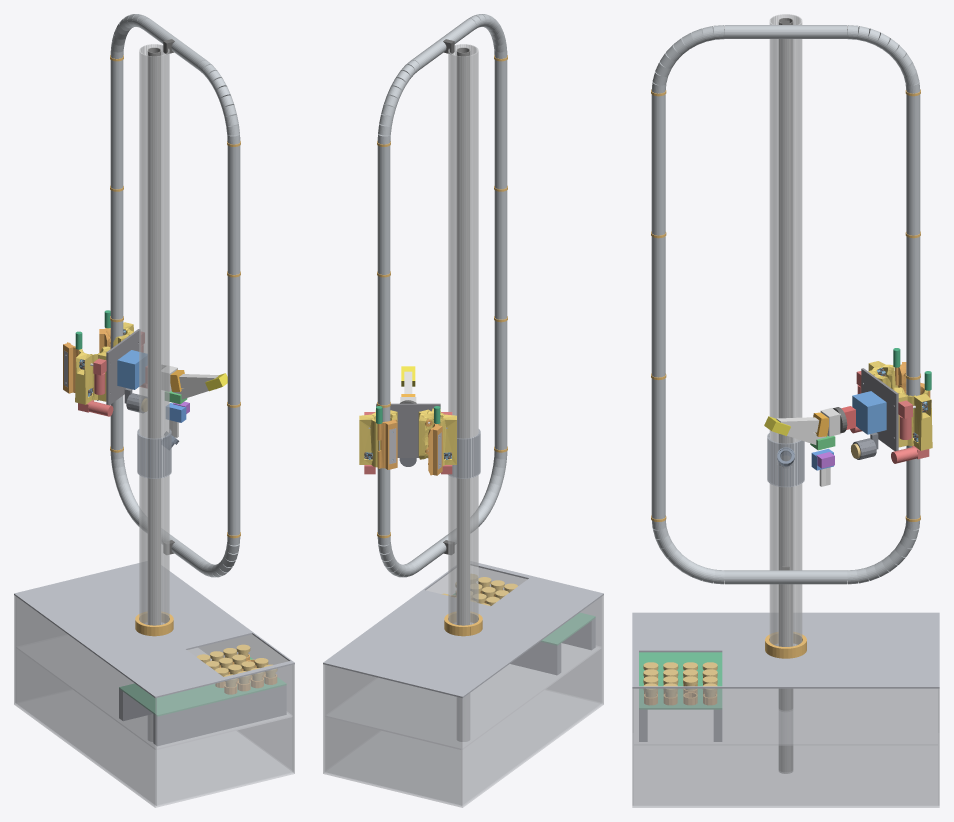
Rendered from transplant-seedling-step2-drive-v10.glb.
The picture shows the model from 3 angles, left to right: view 1: azimuth 30°, elevation 25°; view 2: azimuth 150°, elevation 25°; view 3: azimuth 270°, elevation 25°; orthographic projection. The views are drawn at different scales.
Bounding box in the file's own units: 0.4 × 1.9 × 0.7.
